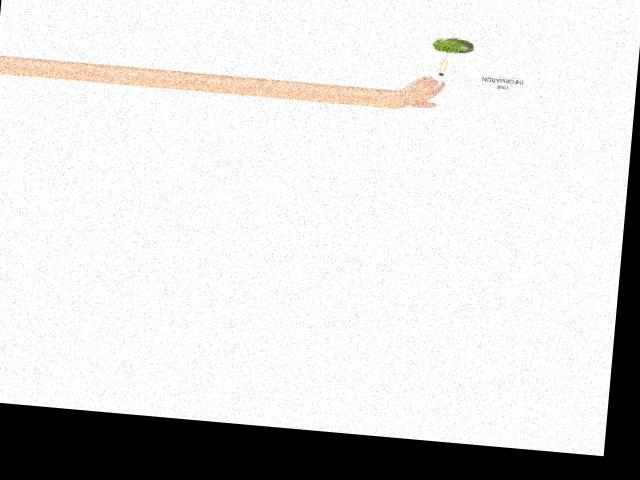cucumber: (431, 37, 474, 54)
